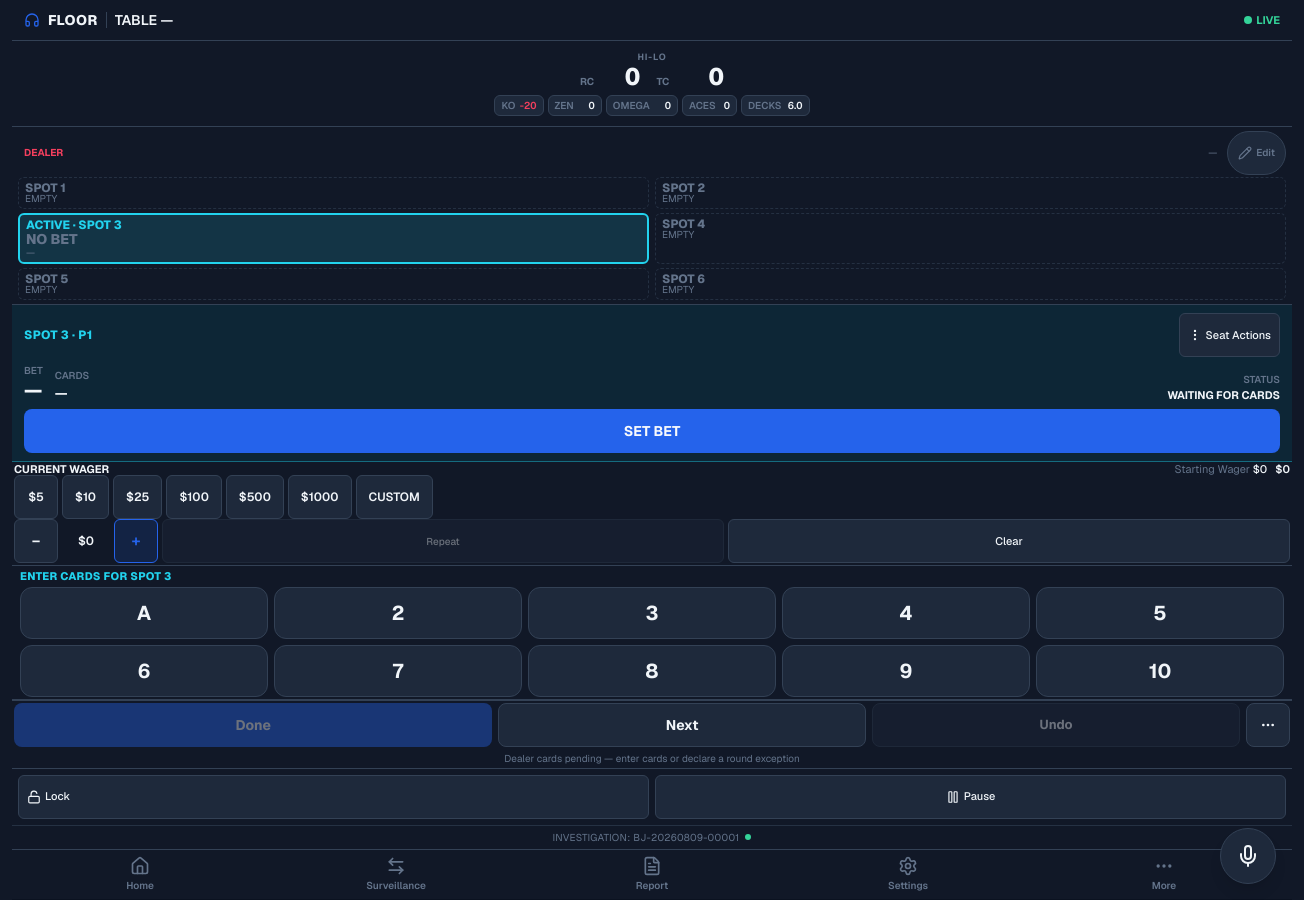
Test: FloorScreen — wager entry via ActiveSeatPanel, never a hidden tap (AGENTS.md operational UI rebuild §4/§8/§9, supersedes 1.14b's PlayerDetailBar) › once a bet is set, the seat tile itself shows the formatted amount without opening details
This screenshot has width=1304, height=900.
Click the button "$25" at point(138, 497), box [113,475,162,519]
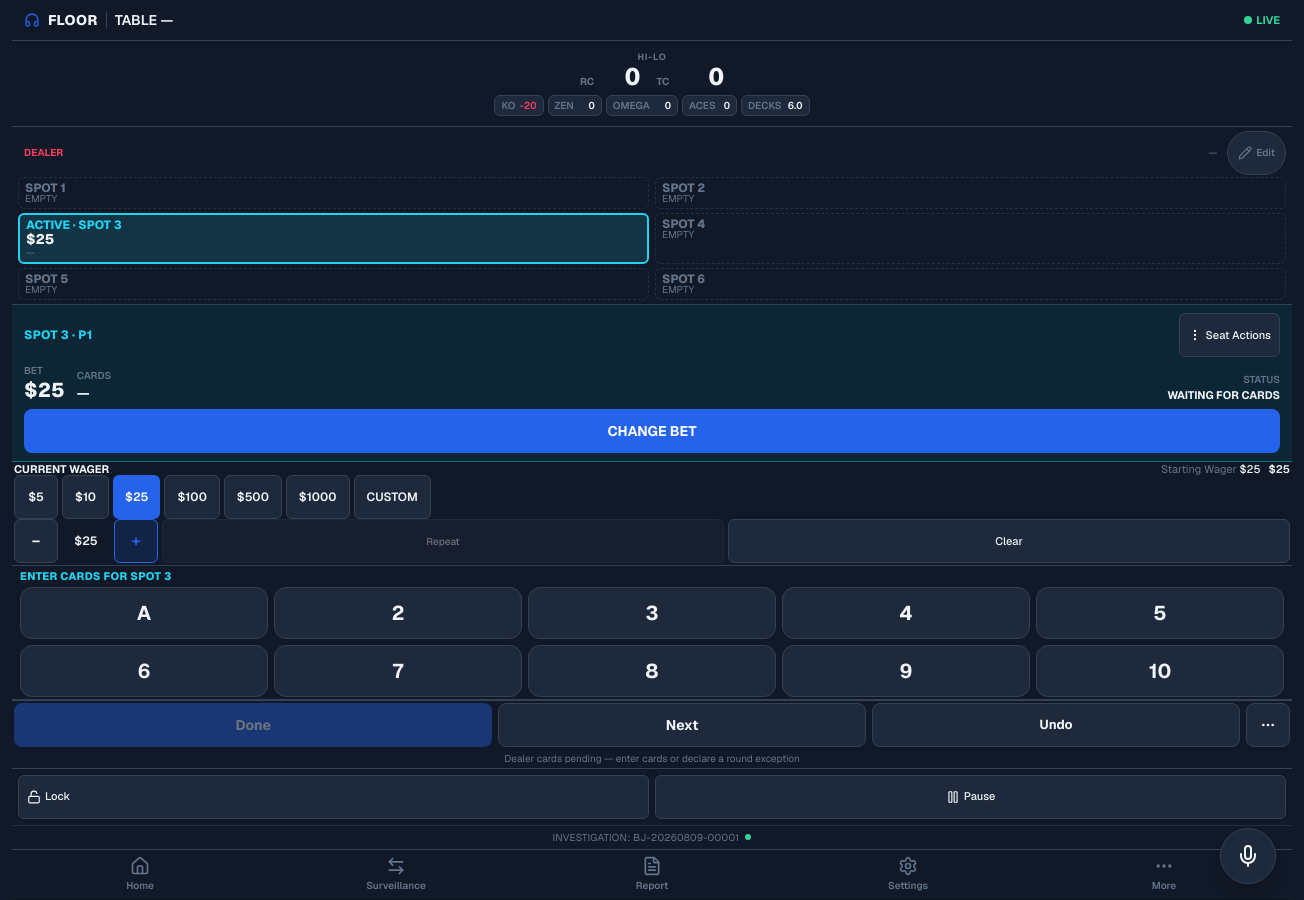
Expected: the 1st text "$25" is shown, [26,230,54,248]
